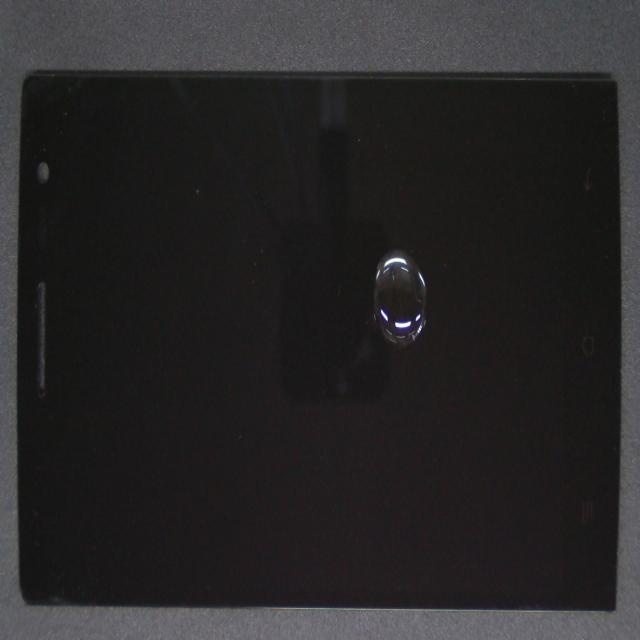oil: (207, 86, 573, 416)
